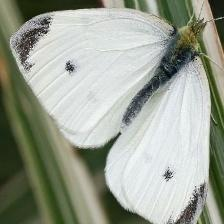butterfly: (11, 9, 211, 224)
